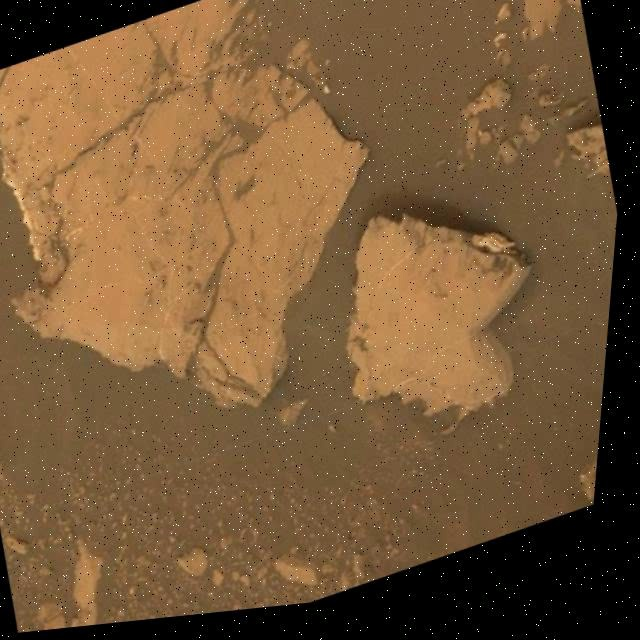rock: (352, 211, 531, 430), (186, 494, 253, 548), (15, 528, 70, 579), (159, 517, 216, 558), (307, 503, 360, 542), (135, 476, 181, 519), (321, 558, 355, 578), (123, 538, 145, 558), (98, 571, 117, 593), (12, 475, 30, 494), (161, 576, 176, 598), (56, 506, 78, 521)
